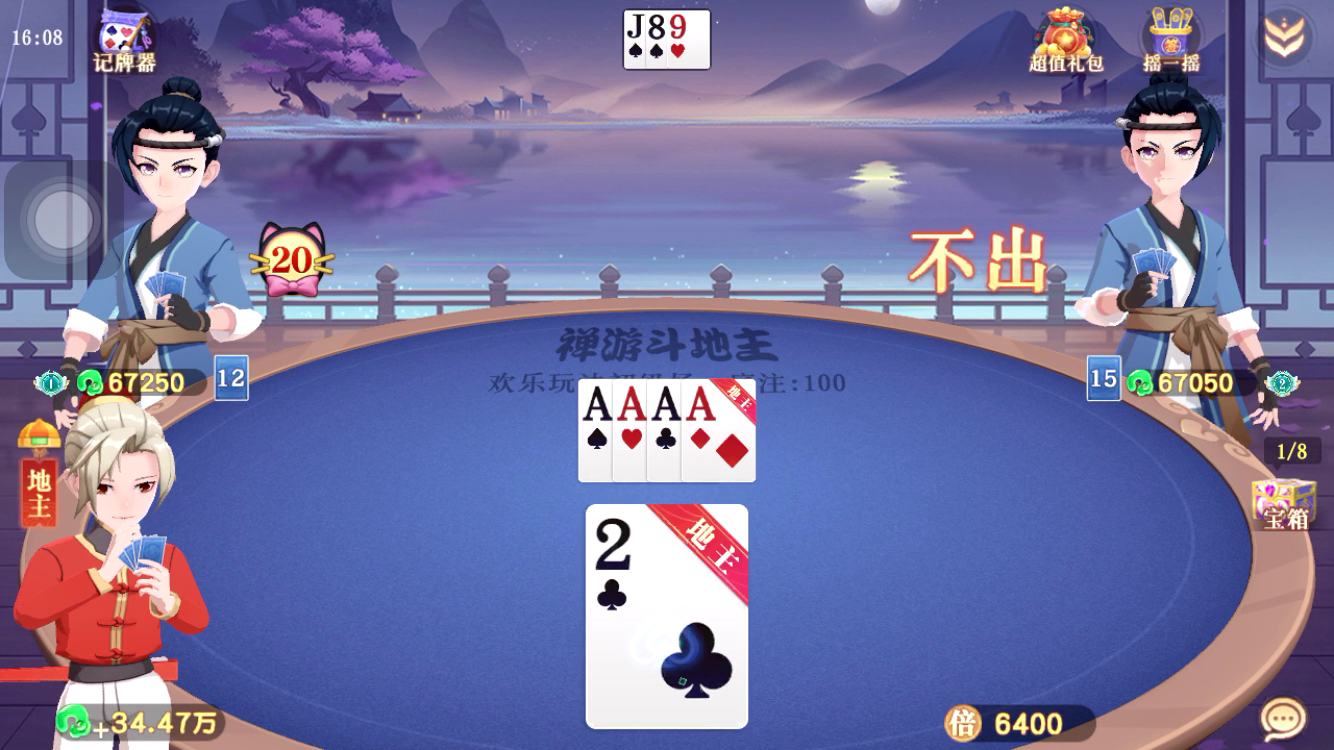A: (683, 383, 719, 428), (579, 383, 613, 427), (650, 383, 682, 427), (615, 383, 647, 426)
J: (623, 10, 645, 41)
eight: (644, 8, 666, 41)
nine: (664, 10, 692, 40)
two: (587, 511, 645, 579)
